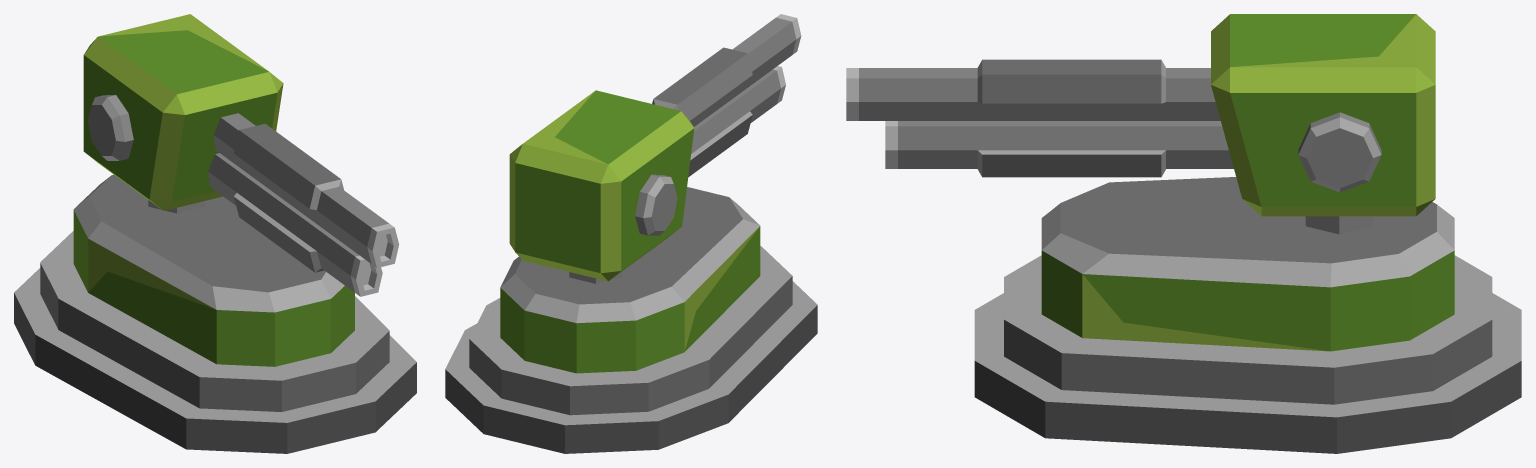
The model's file is tower_lethal_green_1.fbx.
The picture shows the model from 3 angles, left to right: view 1: azimuth 30°, elevation 25°; view 2: azimuth 150°, elevation 25°; view 3: azimuth 270°, elevation 25°; orthographic projection. The views are drawn at different scales.
Visible parts, largest first — view 1: tower_lethal_green_1, top_lethal_green_1; view 2: tower_lethal_green_1, top_lethal_green_1; view 3: tower_lethal_green_1, top_lethal_green_1.
Boxes of the visible parts, x1=… form: tower_lethal_green_1: x1=14, y1=174, x2=416, y2=453; top_lethal_green_1: x1=83, y1=14, x2=399, y2=296; tower_lethal_green_1: x1=445, y1=187, x2=817, y2=453; top_lethal_green_1: x1=509, y1=14, x2=801, y2=283; tower_lethal_green_1: x1=974, y1=177, x2=1521, y2=453; top_lethal_green_1: x1=846, y1=14, x2=1435, y2=234.
Size of the model in its own units: 124 by 117 by 216.
